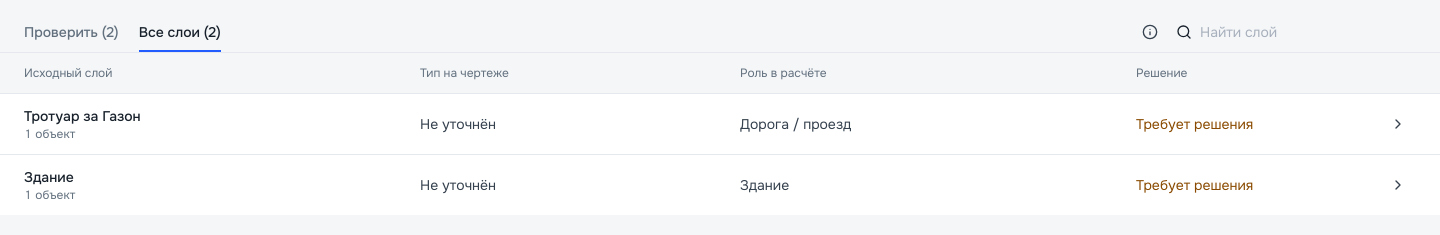
supports readonly search and details without mutation actions
Type "газон" into the field named "Поиск слоя". click: point(1296, 32)
box: [1176,12,1416,52]
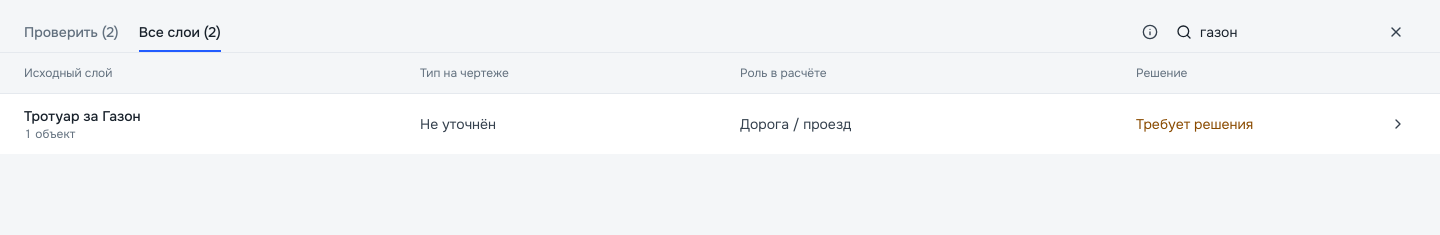
Click the button named "Сведения о слое Тротуар за Газон". click: point(1398, 124)
box: [1380,106,1416,142]
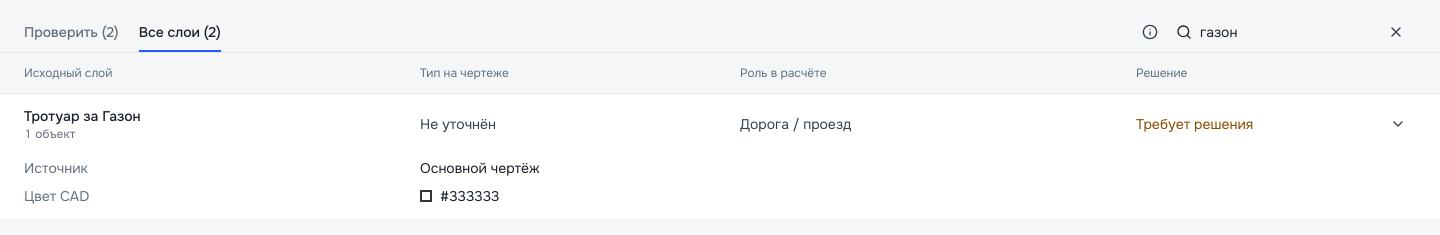
expect the element named "Сведения о слое Тротуар за Газон" is shown: met, box [24,159,540,205]
